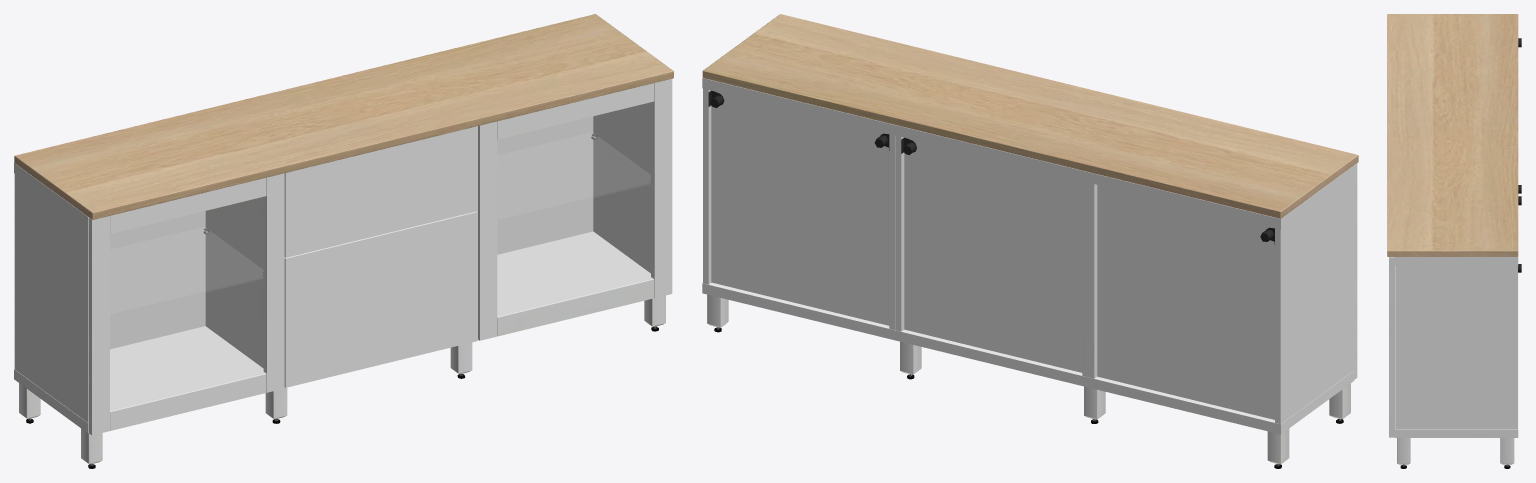
File: 14 - BESTÅ Storage combination with drawers - Sindvik whiteLappvikenStubbarp white 180x42x76 cm.glb
3 renders of one model, left to right at view 1: azimuth 30°, elevation 25°; view 2: azimuth 150°, elevation 25°; view 3: azimuth 270°, elevation 25°, orthographic. The views are drawn at different scales.
Visible parts, largest first — view 1: 59424342_storage_combination_with_drawers:15, 59424342_storage_combination_with_drawers:9, 59424342_storage_combination_with_drawers:8; view 2: 59424342_storage_combination_with_drawers:15, 59424342_storage_combination_with_drawers:9, 59424342_storage_combination_with_drawers:14, 59424342_storage_combination_with_drawers:8; view 3: 59424342_storage_combination_with_drawers:9, 59424342_storage_combination_with_drawers:15, 59424342_storage_combination_with_drawers:8.
Part boxes in pixels (bbox=[...]): 59424342_storage_combination_with_drawers:15: bbox=[14, 78, 672, 464]; 59424342_storage_combination_with_drawers:9: bbox=[15, 14, 673, 219]; 59424342_storage_combination_with_drawers:8: bbox=[14, 14, 673, 219]; 59424342_storage_combination_with_drawers:15: bbox=[702, 78, 1357, 464]; 59424342_storage_combination_with_drawers:9: bbox=[703, 14, 1357, 218]; 59424342_storage_combination_with_drawers:14: bbox=[708, 90, 1274, 244]; 59424342_storage_combination_with_drawers:8: bbox=[702, 15, 1358, 218]; 59424342_storage_combination_with_drawers:9: bbox=[1387, 14, 1518, 250]; 59424342_storage_combination_with_drawers:15: bbox=[1389, 257, 1518, 464]; 59424342_storage_combination_with_drawers:8: bbox=[1387, 250, 1518, 256].
Bounding box in the file's own units: 1.8 × 0.7814 × 0.4315.
2 materials, 2 textured.
